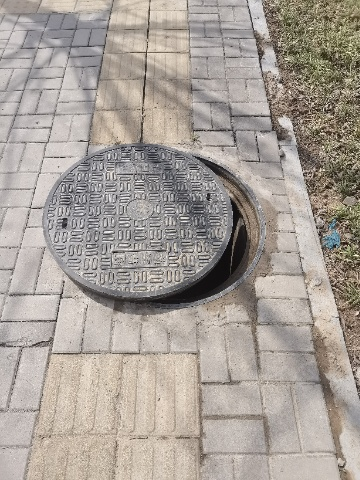well: (43, 144, 265, 309)
